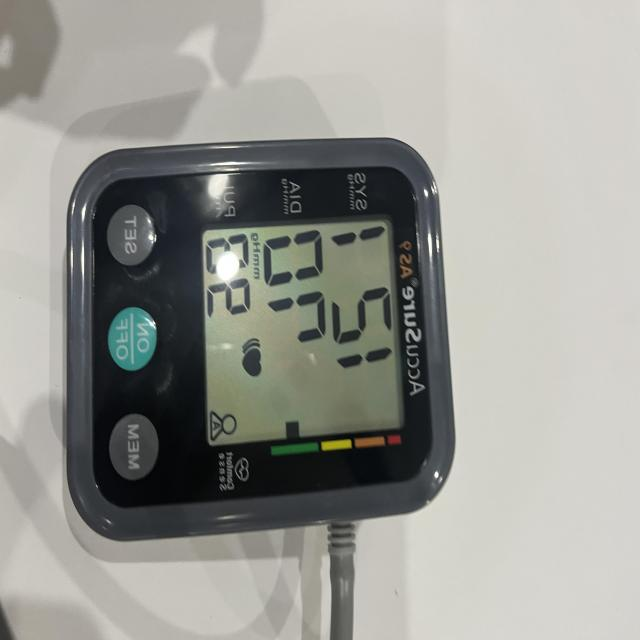bp: (49, 81, 457, 549)
